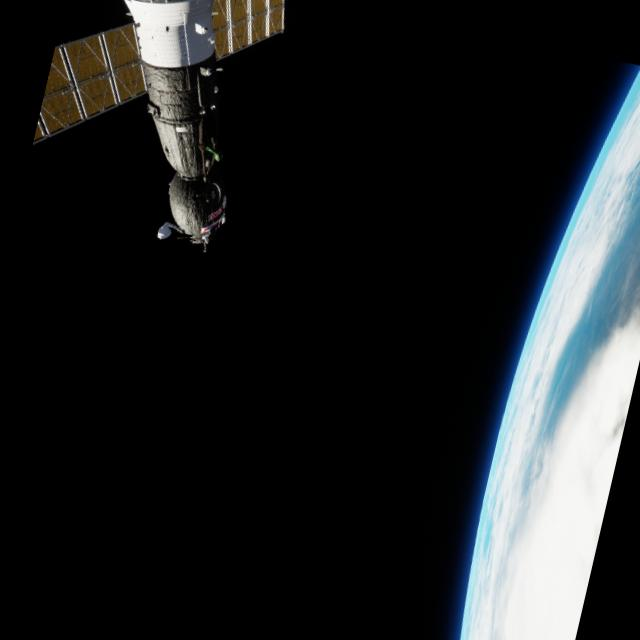Satellites revolving around earth: (17, 0, 295, 262)
